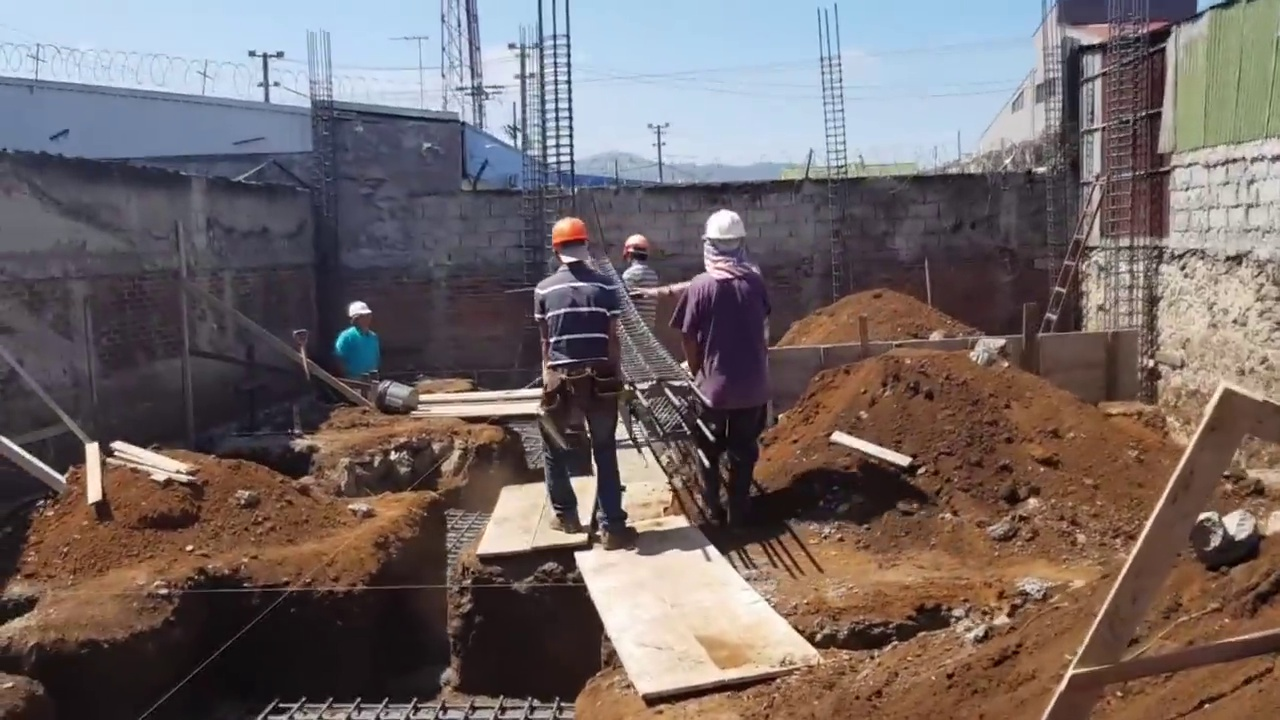helmet: (704, 209, 747, 246), (548, 215, 591, 252), (622, 238, 652, 260), (346, 303, 372, 318)
helmet-on: (704, 209, 754, 275), (548, 215, 596, 276), (619, 237, 653, 268), (347, 300, 372, 333)
person: (654, 209, 775, 539), (533, 218, 640, 561), (615, 240, 663, 336), (332, 298, 380, 379)
